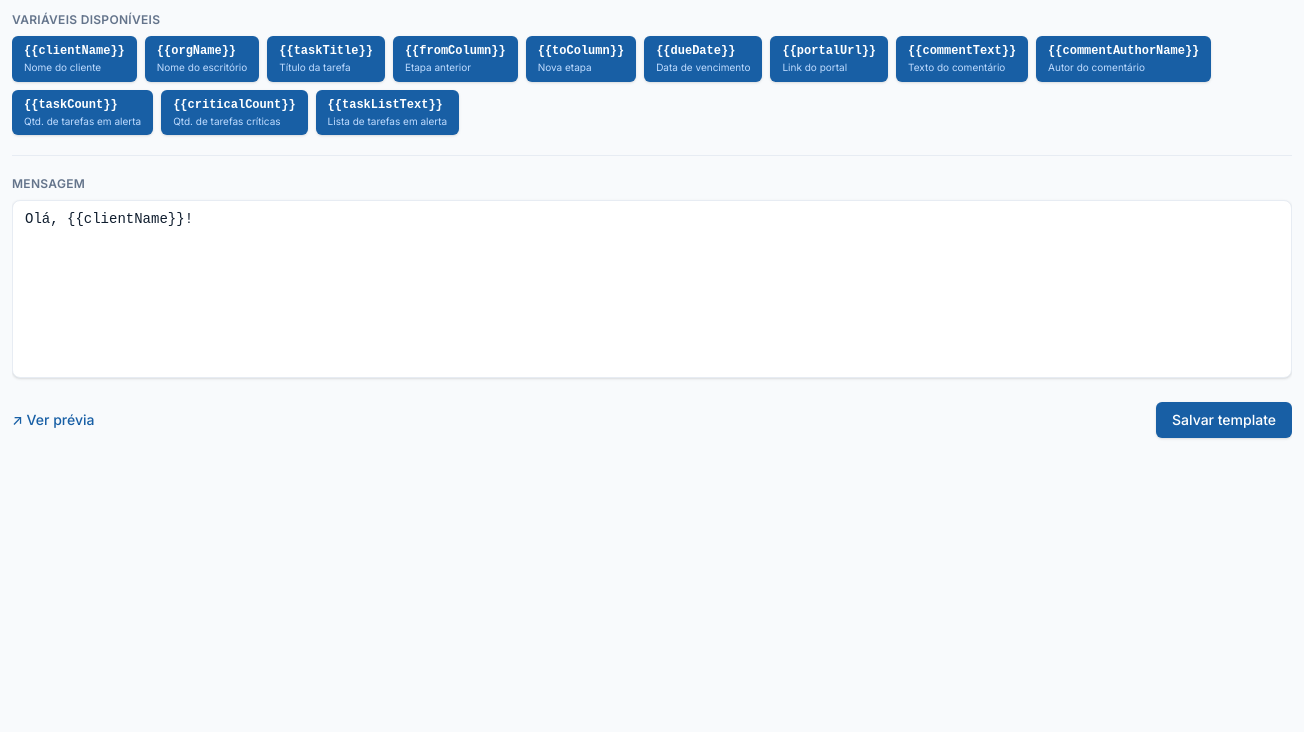
renders preview in real time when clicking preview button
Expected: the text box showing "Olá, {{clientName}}!" is shown, [12,200,1292,378]
Click the button "↗ Ver prévia". click: (53, 420)
box: [12,410,94,430]
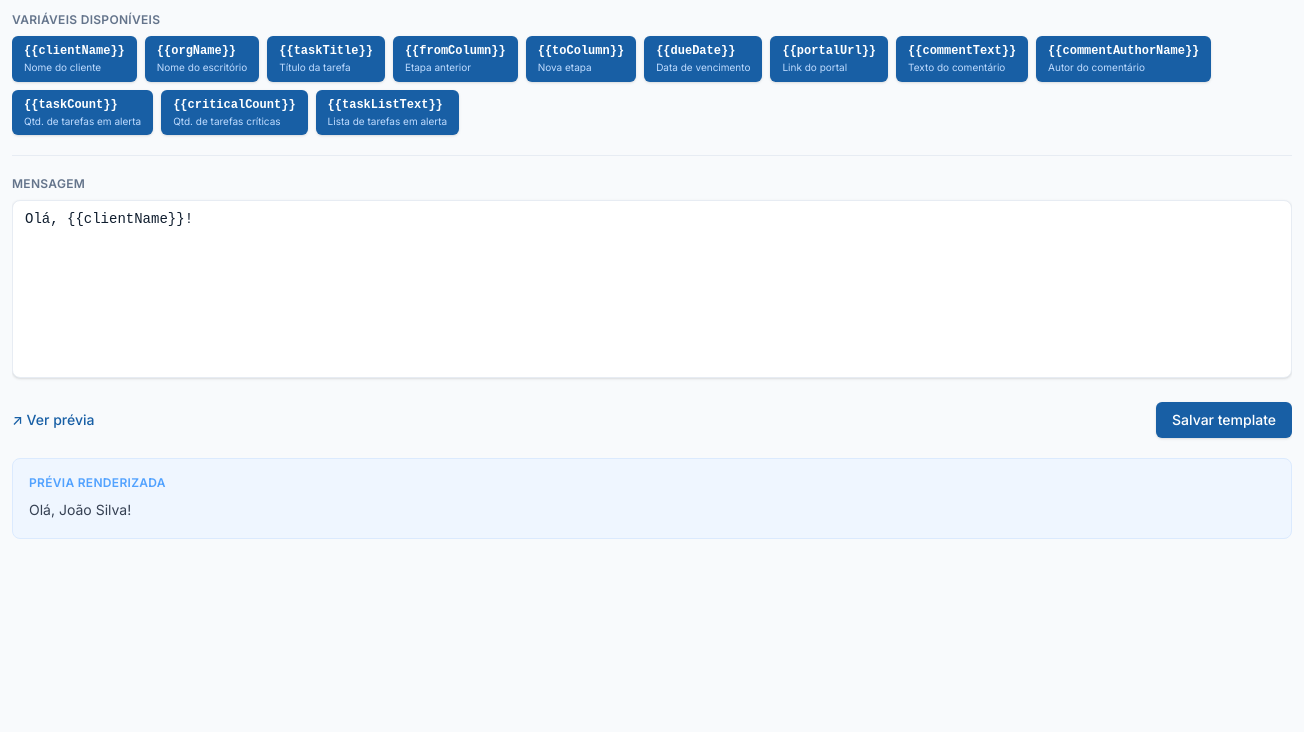
Result: the text "Olá, João Silva!" is shown at [29,501,131,518]
